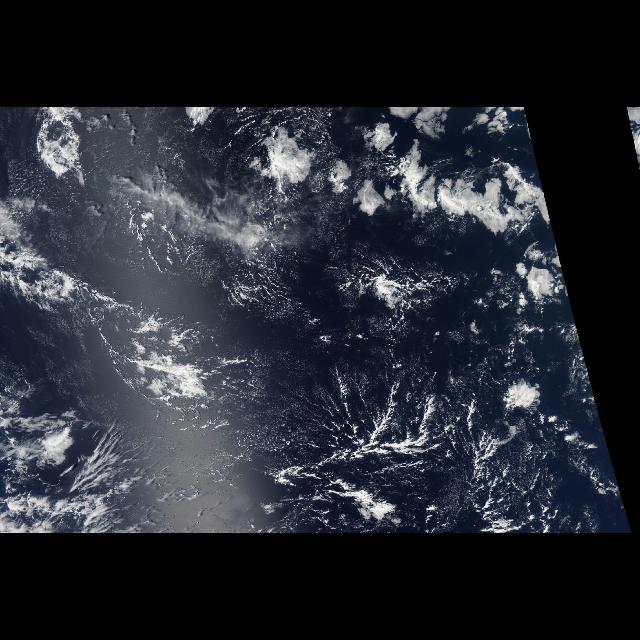Flower: (251, 110, 553, 226)
Sugar: (248, 384, 500, 520)
